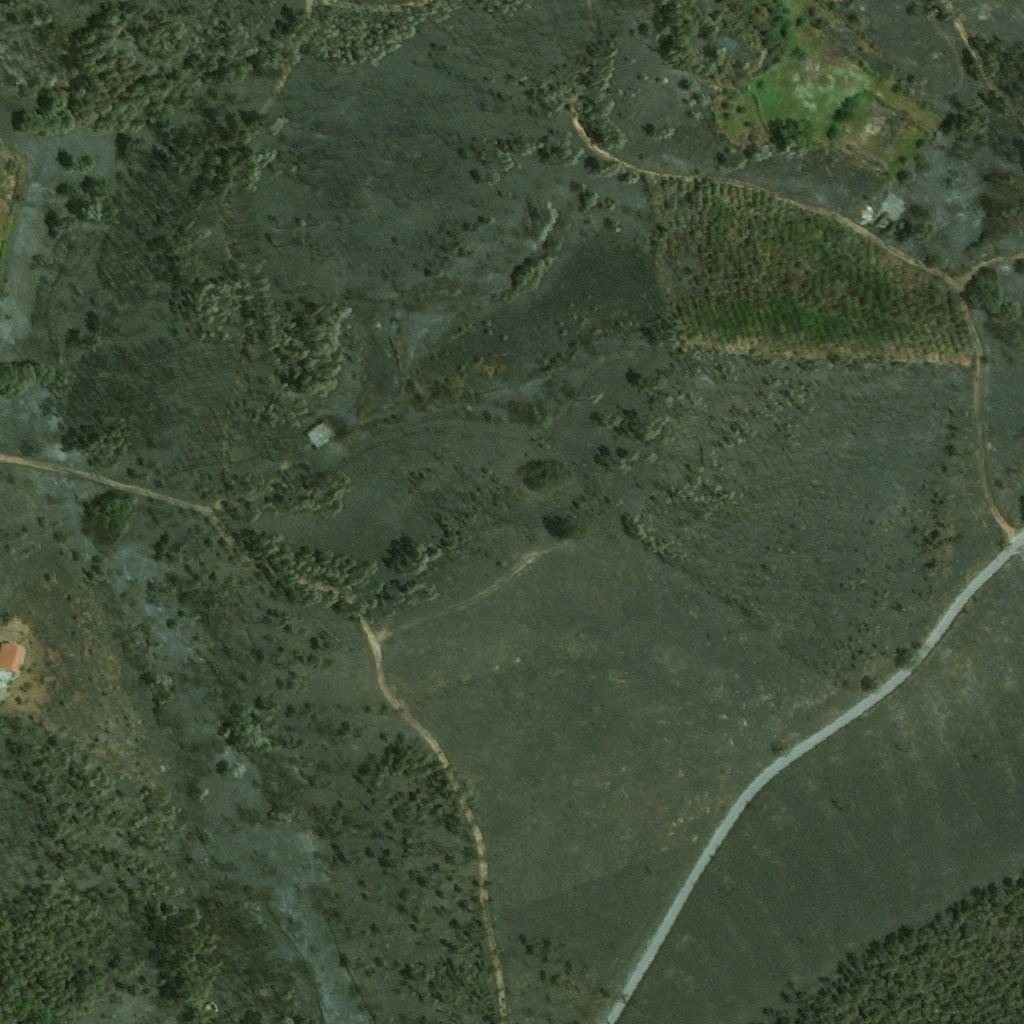0 no-damage: (0, 638, 25, 674)
1 minor-damage: (305, 423, 334, 449)
